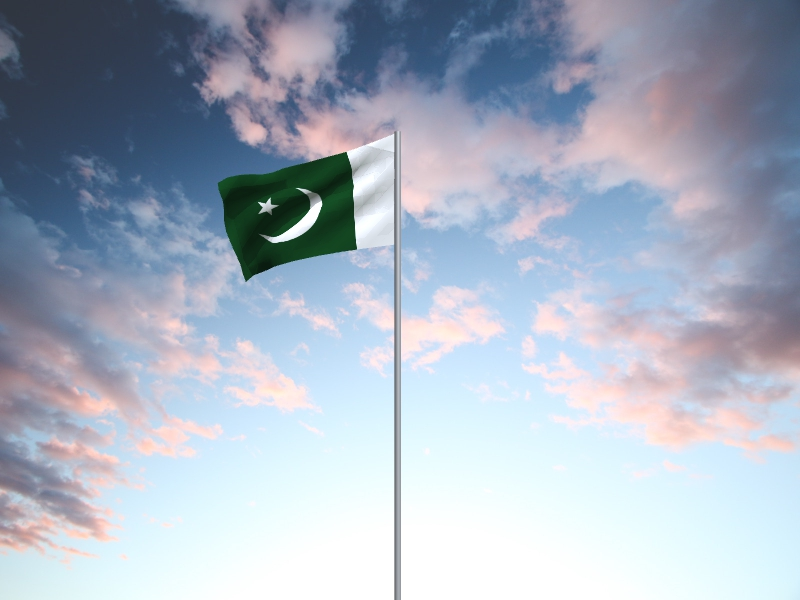pk: (217, 134, 395, 283)
